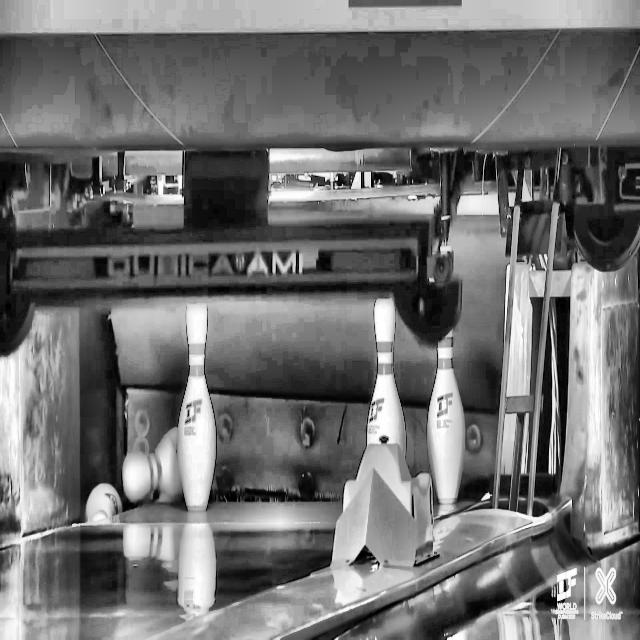bowling-pins: (177, 304, 216, 511), (428, 335, 466, 504), (367, 299, 406, 454)
